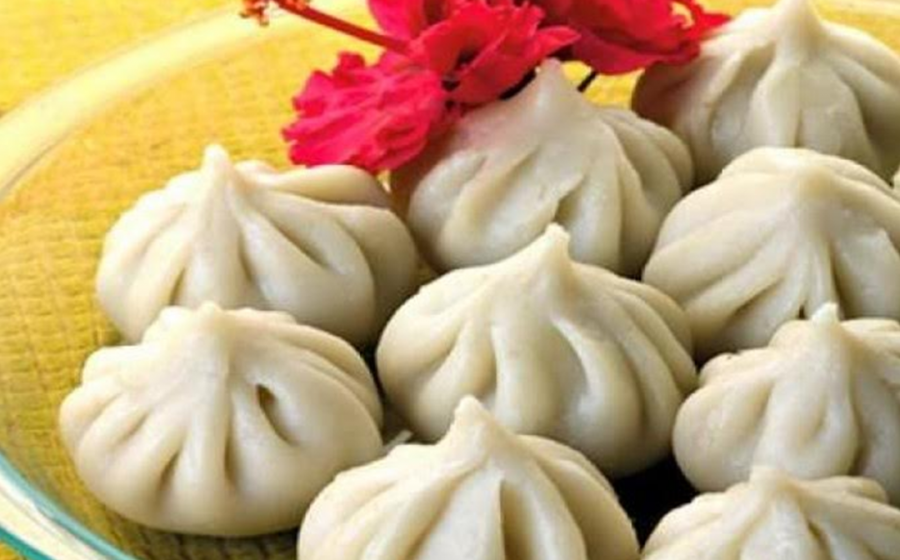modak: (358, 226, 711, 470), (59, 307, 419, 509), (106, 140, 435, 330), (419, 82, 708, 269), (315, 412, 642, 560), (671, 157, 900, 337), (676, 298, 900, 456)
